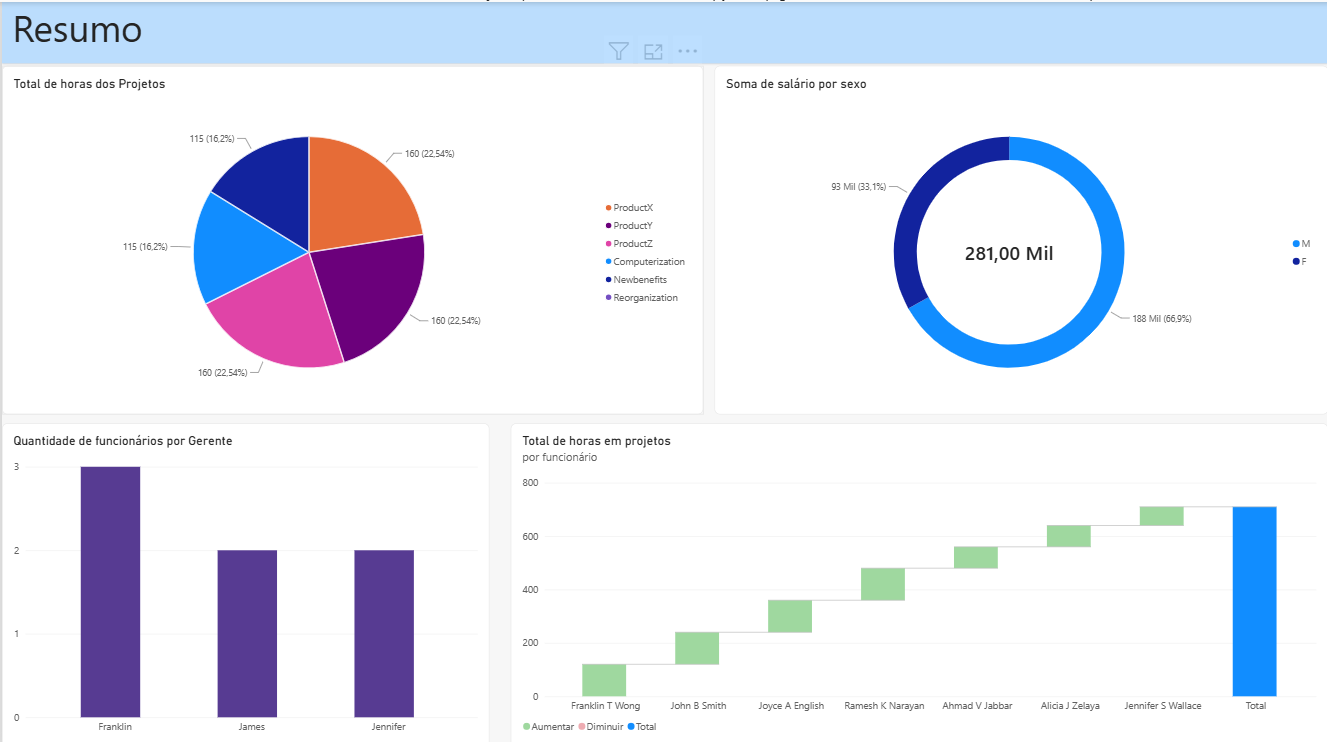

This screenshot's page, from the dashboard's own definition file:
{"tool":"powerbi","page":{"name":"Página 1","canvas":[1920,1080],"ordinal":0},"visuals":[{"type":"pieChart","title":"Total de horas dos Projetos","fields":{"Category":["hours_project.project"],"Y":["Sum(hours_project.hours)"]},"box":[0,92.3,1015.2,504.9],"z":0},{"type":"donutChart","title":"Soma de salário por sexo","fields":{"Category":["public employee.sex"],"Y":["Sum(public employee.salary)"]},"box":[1031.5,92.3,888.5,504.9],"z":1000},{"type":"clusteredColumnChart","title":"Quantidade de funcionários por Gerente","fields":{"Category":["emp_manager.manager_name"],"Y":["CountNonNull(emp_manager.employee_name)"]},"box":[0,609.9,705.8,470.5],"z":2000},{"type":"waterfallChart","title":"Total de horas em projetos","fields":{"Category":["hours_employee.full_name"],"Y":["Sum(hours_employee.project_hours)"]},"box":[736.5,609.9,1183.5,470.5],"z":3000},{"type":"textbox","box":[0,0,1920.1,88.7],"z":4000}]}

Visuals, with their boxes in screenshot pixels (x1, y1, x2, y2), scaled from the page's 1920x1080 canvas onto the 1327x742 screenshot:
"Total de horas dos Projetos" pieChart: l=0, t=63, r=702, b=410
"Soma de salário por sexo" donutChart: l=713, t=63, r=1326, b=410
"Quantidade de funcionários por Gerente" clusteredColumnChart: l=0, t=419, r=488, b=741
"Total de horas em projetos" waterfallChart: l=509, t=419, r=1326, b=741
textbox: l=0, t=0, r=1326, b=61
